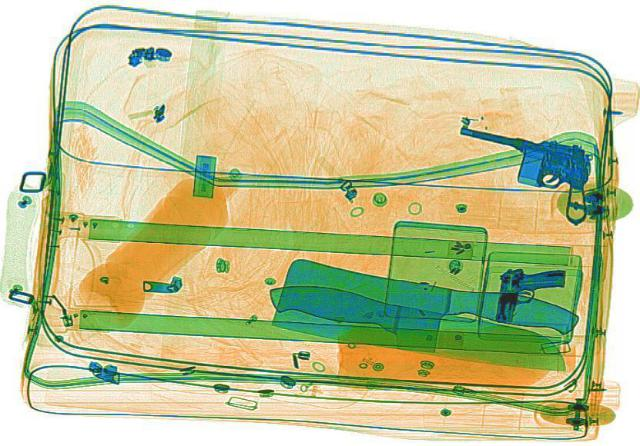Gun: (432, 128, 610, 224), (494, 264, 566, 325)
Knife: (256, 255, 586, 374), (255, 263, 585, 382)
